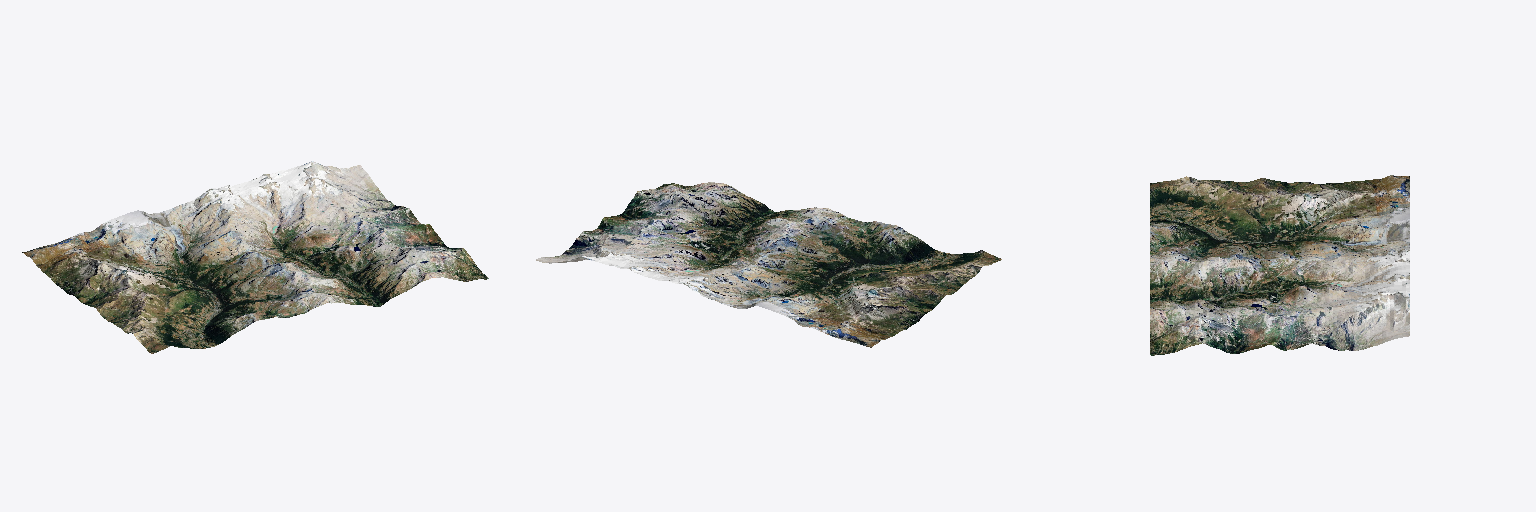
3 renders of one model, left to right at view 1: azimuth 30°, elevation 25°; view 2: azimuth 150°, elevation 25°; view 3: azimuth 270°, elevation 25°, orthographic.
Parts seen in each view (by area): view 1: EXPORT_GOOGLE_SAT_WM.030; view 2: EXPORT_GOOGLE_SAT_WM.030; view 3: EXPORT_GOOGLE_SAT_WM.030.
Boxes of the visible parts, x1=… form: EXPORT_GOOGLE_SAT_WM.030: x1=22, y1=161, x2=488, y2=353; EXPORT_GOOGLE_SAT_WM.030: x1=536, y1=182, x2=1001, y2=347; EXPORT_GOOGLE_SAT_WM.030: x1=1150, y1=175, x2=1409, y2=355.
Bounding box in the file's own units: 36498 × 3661 × 24332.
1 materials, 1 textured.